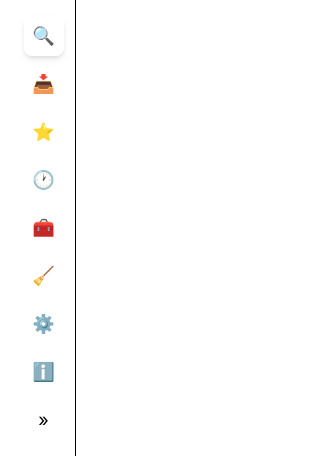
Sidebar › 展开态再次点击 toggle 回到收起态
Click the button titled "展开侧边栏".
click(44, 420)  # box left=24, top=400, right=64, bottom=440
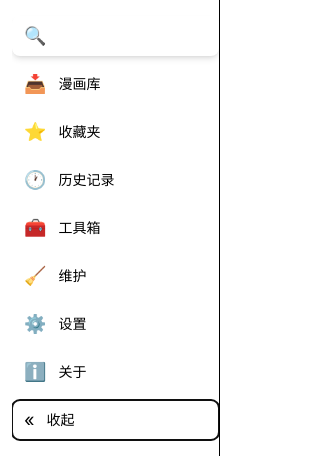
Click the button titled "收起侧边栏".
click(116, 420)  # box left=12, top=400, right=219, bottom=440
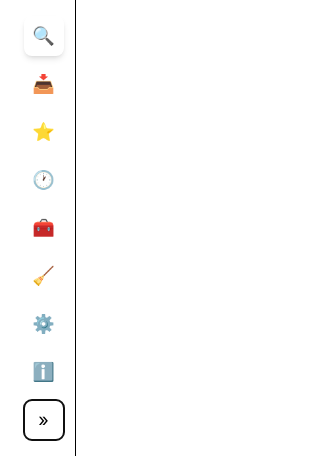
expect the button titled "漫画库" is shown: met, box left=24, top=64, right=64, bottom=104
expect the text "漫画库" is gone: met
